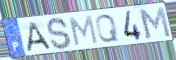4: (122, 9, 143, 42)
A: (25, 20, 52, 53)
M: (137, 6, 173, 41), (68, 14, 100, 47)
Q: (94, 13, 121, 44)
S: (45, 17, 73, 52)
